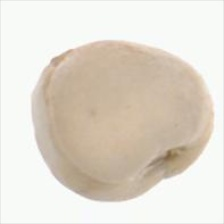L4: (32, 39, 215, 202)
